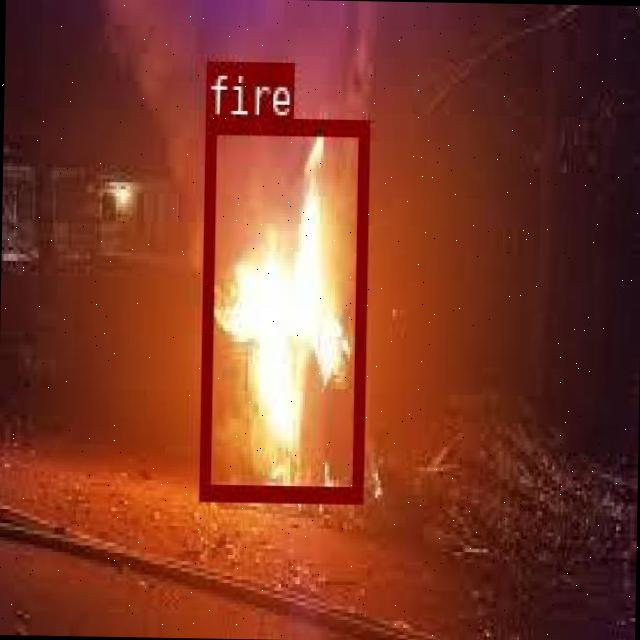fire: (197, 116, 366, 498)
